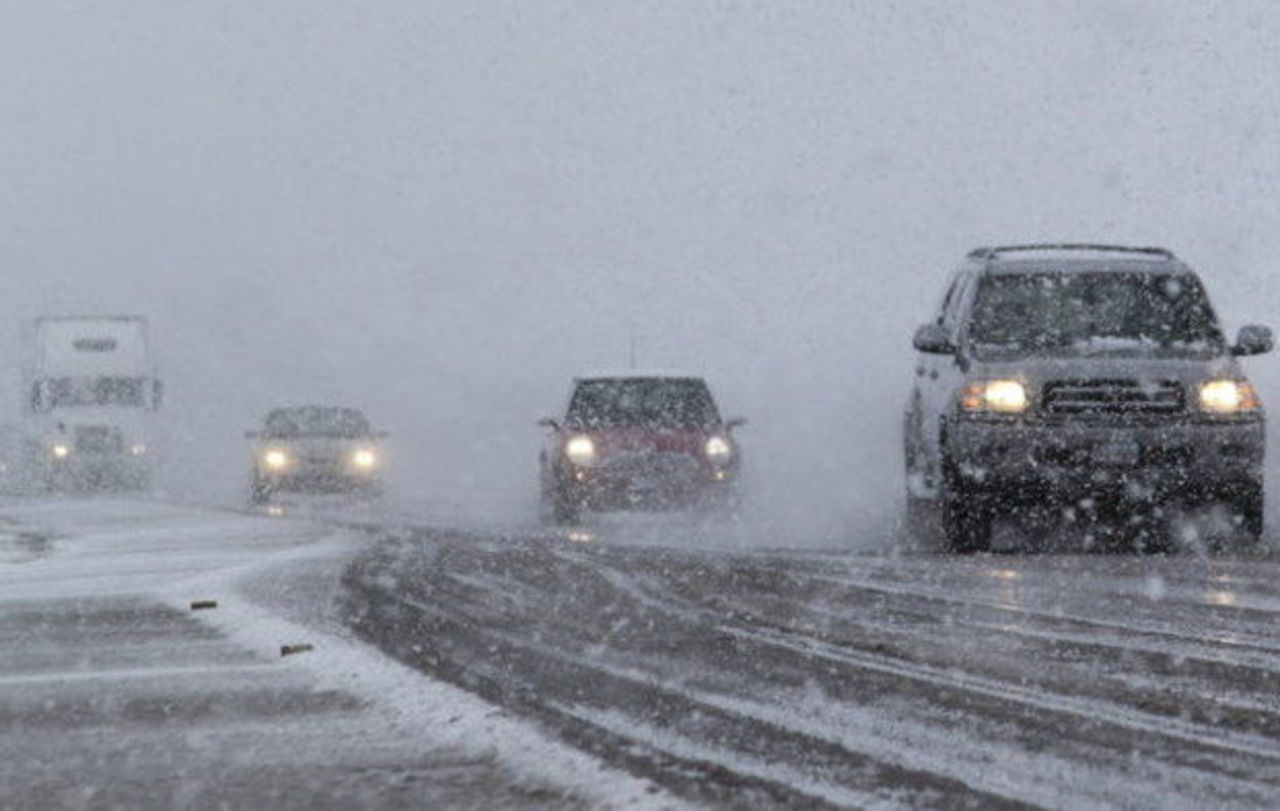car: (903, 248, 1274, 558), (537, 372, 744, 529), (246, 405, 386, 508)
truck: (15, 311, 163, 491)
